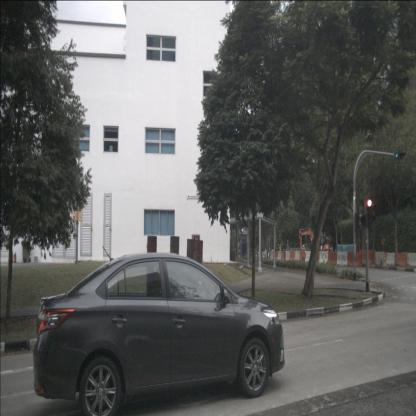barrier: (360, 249, 376, 265), (346, 251, 362, 267), (336, 252, 348, 266), (395, 252, 407, 266), (375, 251, 386, 265), (386, 252, 396, 266), (328, 251, 337, 265), (408, 252, 416, 267), (319, 251, 328, 264), (305, 251, 312, 262), (300, 251, 306, 261), (285, 251, 290, 261), (290, 251, 295, 261), (295, 251, 300, 261), (273, 251, 278, 260), (281, 250, 285, 260), (270, 250, 274, 260), (277, 251, 281, 260)
